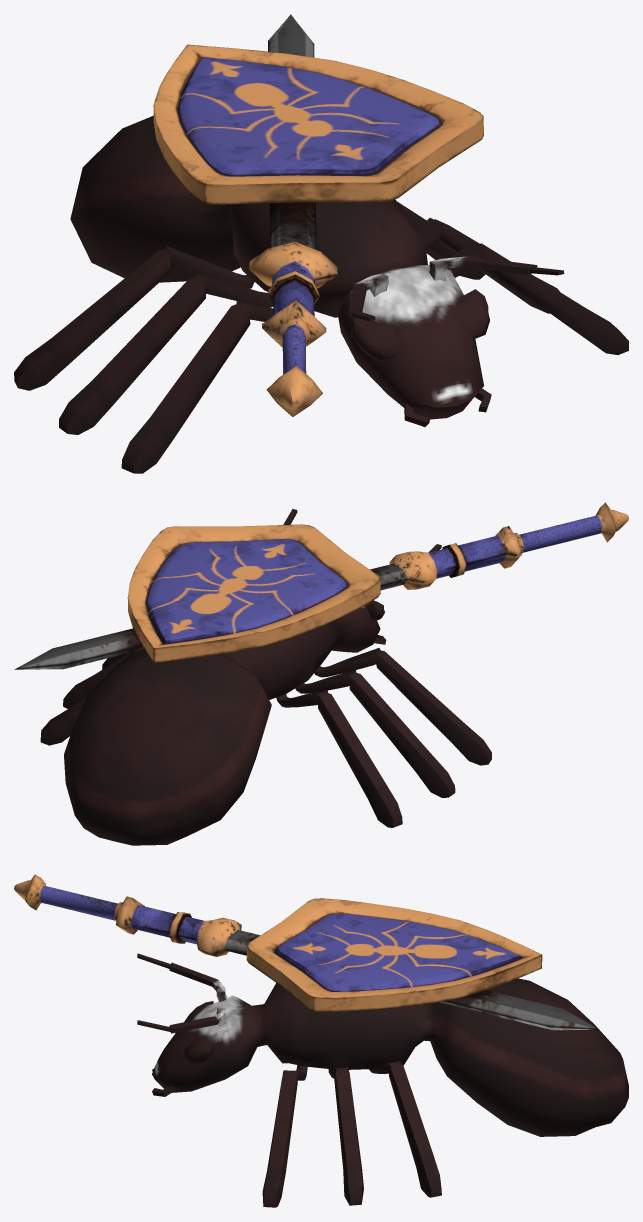
The model's file is CH_SoldierAnt.fbx.
3 views of the same model, one above another, from view 1: azimuth 30°, elevation 25°; view 2: azimuth 150°, elevation 25°; view 3: azimuth 270°, elevation 25° (orthographic). The views are drawn at different scales.
Visible parts, largest first — view 1: SM_SoldierAnt; view 2: SM_SoldierAnt; view 3: SM_SoldierAnt.
Boxes of the visible parts, x1=… form: SM_SoldierAnt: x1=14, y1=14, x2=628, y2=473; SM_SoldierAnt: x1=14, y1=502, x2=628, y2=845; SM_SoldierAnt: x1=14, y1=874, x2=628, y2=1207.
Size of the model in its own units: 0.8991 by 0.416 by 1.28.
